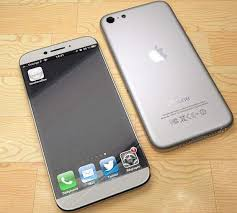mobil: (15, 34, 152, 211), (98, 0, 234, 154)
